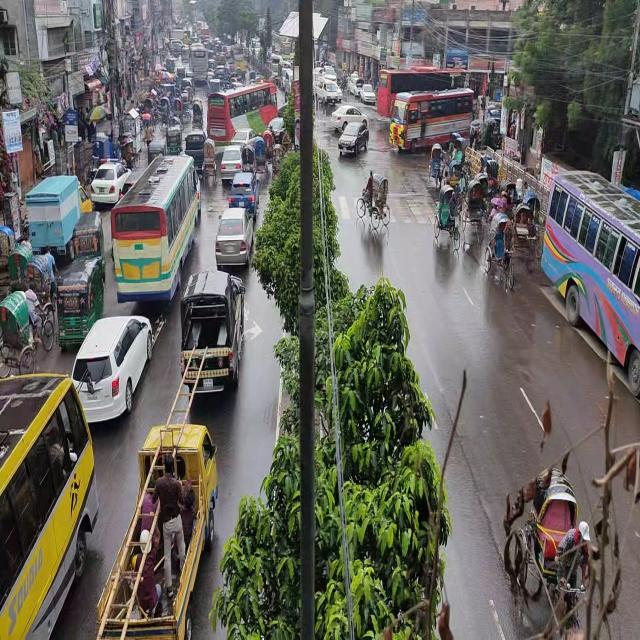black: (181, 277, 248, 396)
blue: (228, 172, 259, 215)
silver: (215, 206, 255, 272)
white: (73, 314, 152, 427)
